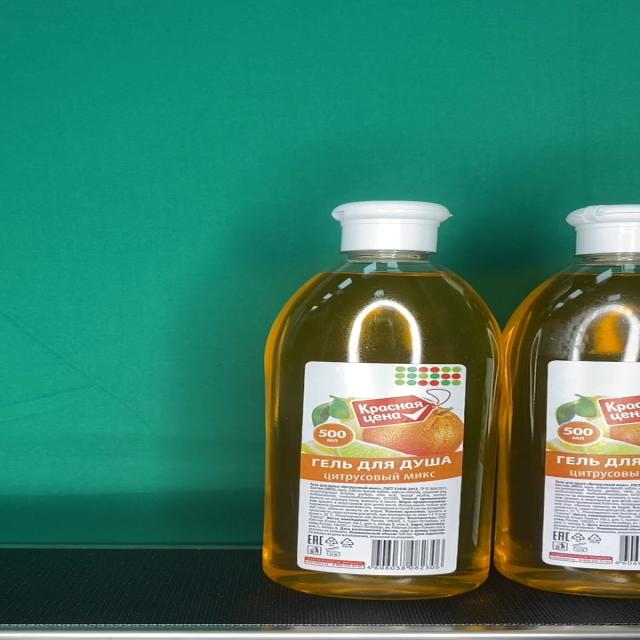Bottle: (261, 201, 500, 600)
Cap: (331, 201, 452, 253)
